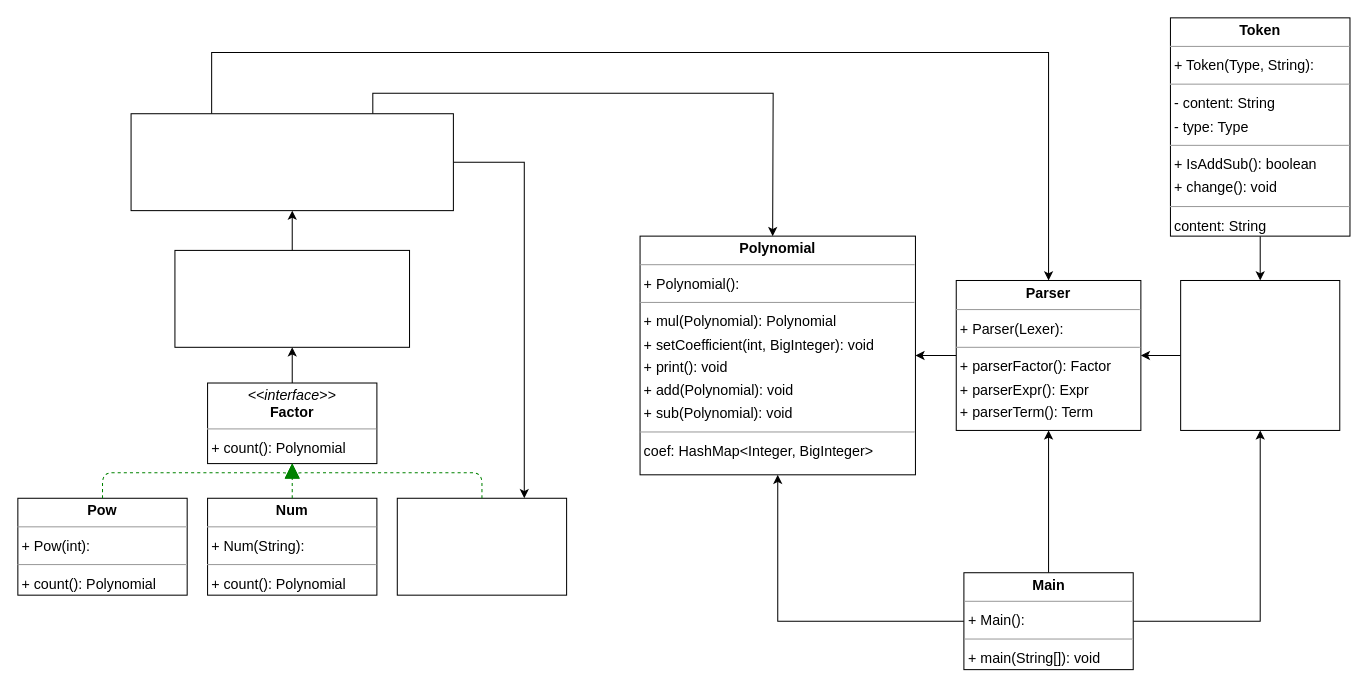
Some shapes in this 1368 by 687 pixel diagram are drawn without their labels. Here are the shapes that lost their labels. From the top down, the centre of each, then its label:
At point 291,162: "Expr + Expr(ArrayList<Term>, ArrayList<Token>): + count(): Polynomial".
At point 292,298: "Term + Term(int, ArrayList<Factor>): + count(): Polynomial".
At point 1260,354: "Lexer + Lexer(String): + move(): void + now(): Token + notEnd(): boolean".
At point 481,546: "ExpFac + ExpFac(int, Expr): + count(): Polynomial".
